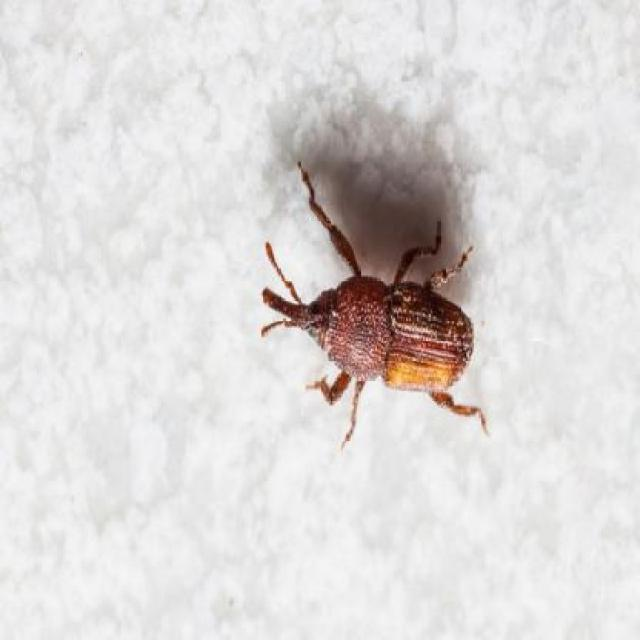rice-bug: (260, 232, 482, 439)
